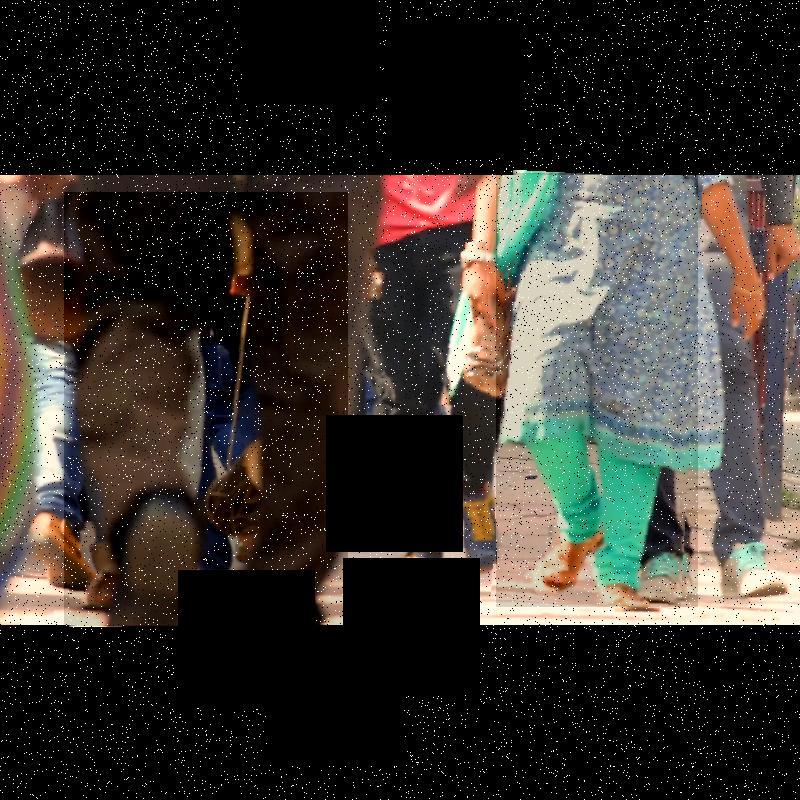Churidaar: (496, 173, 698, 607)
Pant: (64, 192, 348, 626), (355, 243, 495, 567)
